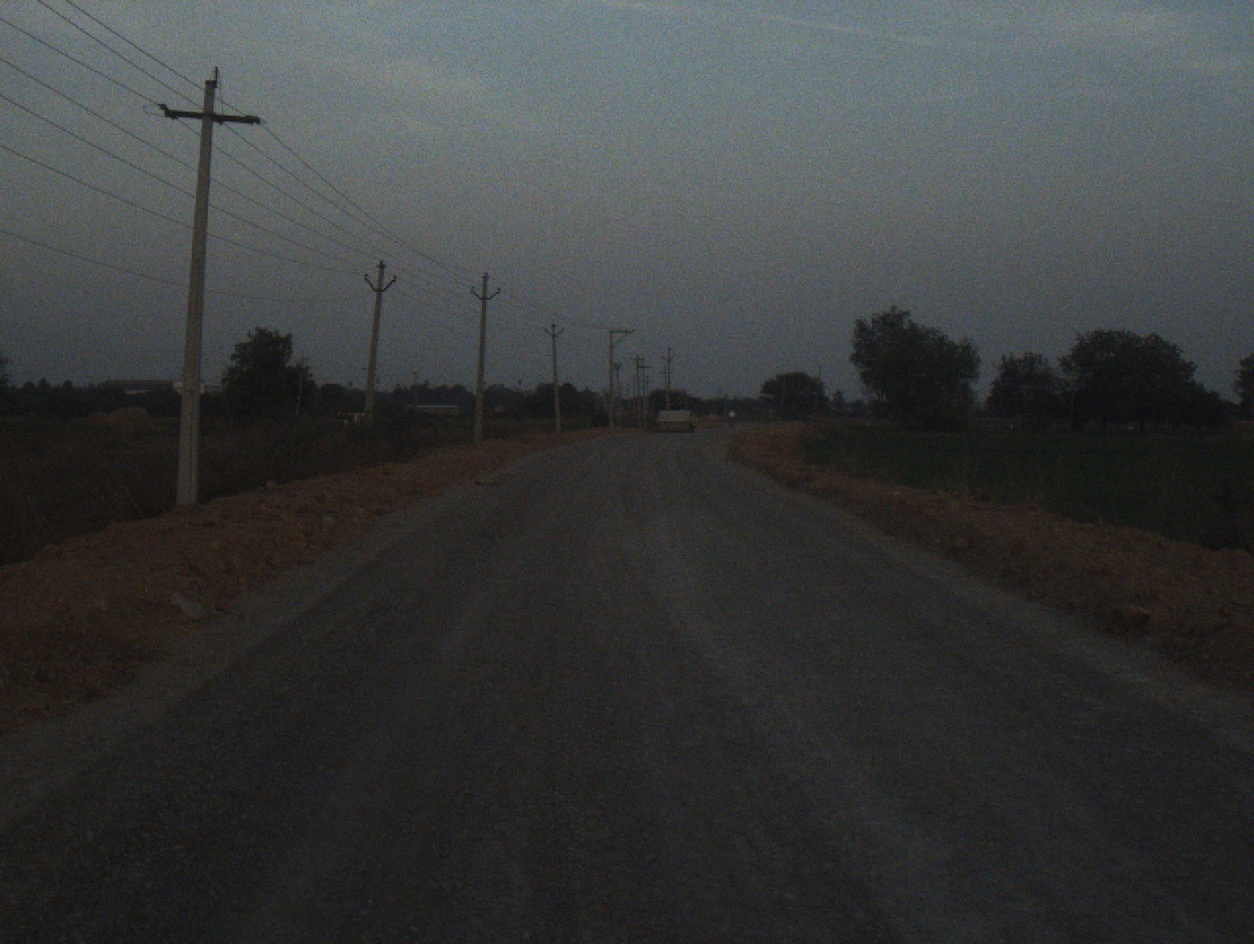vehicle fallback: (642, 390, 698, 436)
